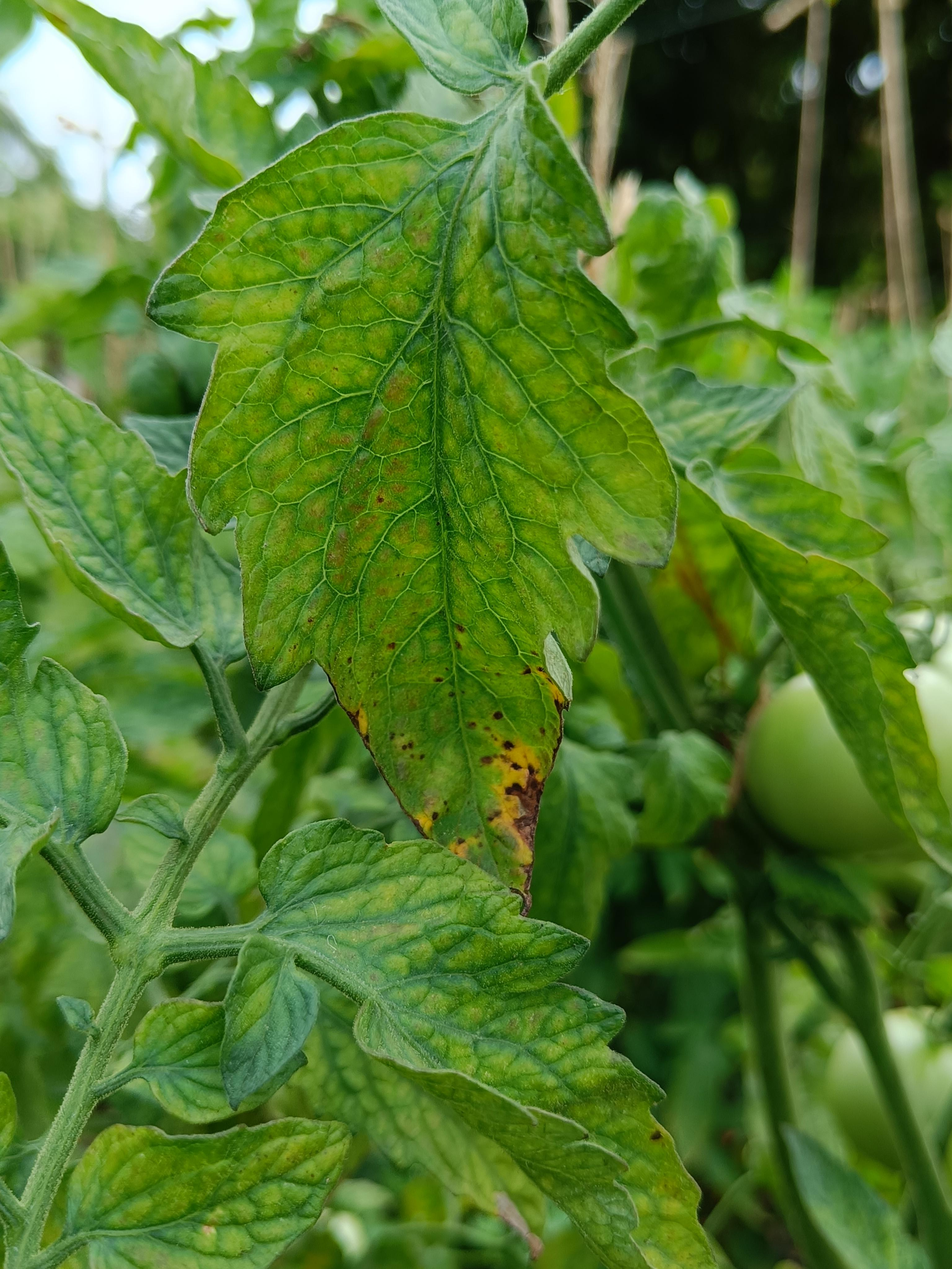Early Blight: (144, 84, 681, 914)
